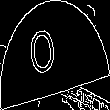O_S: (40, 26, 70, 84)
